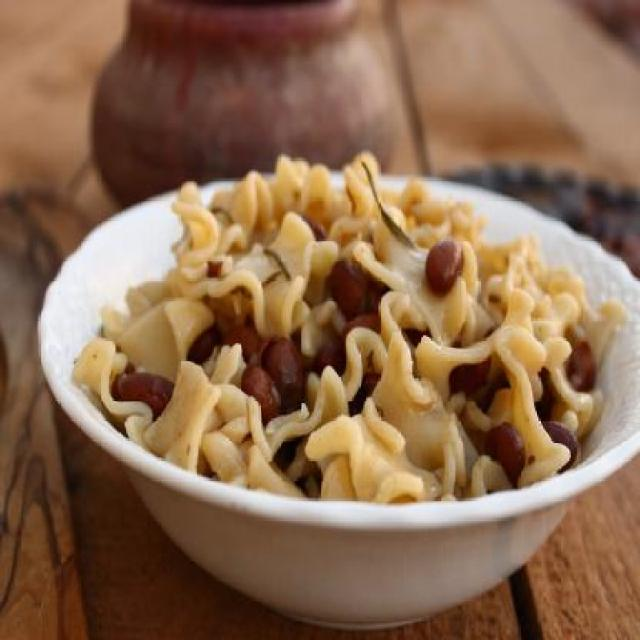Oil pasta: (56, 136, 639, 630)
